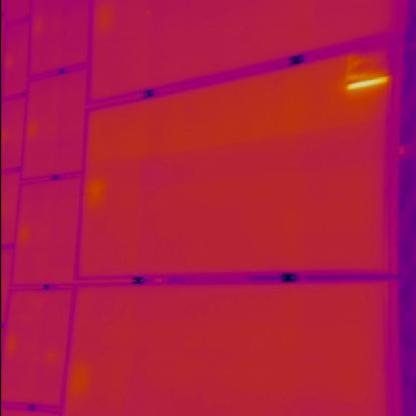anomaly: (341, 58, 398, 96)
